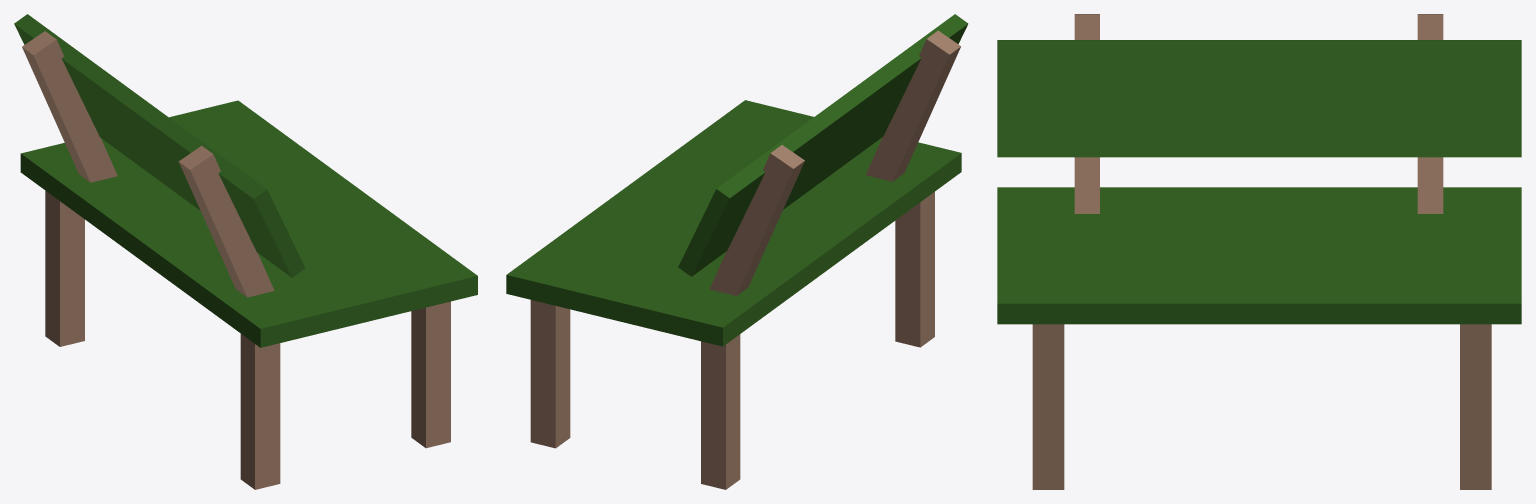
File: bench.fbx
3 renders of one model, left to right at view 1: azimuth 30°, elevation 25°; view 2: azimuth 150°, elevation 25°; view 3: azimuth 270°, elevation 25°, orthographic. The views are drawn at different scales.
Parts seen in each view (by area): view 1: Cube.007, Cube.005; view 2: Cube.007, Cube.005; view 3: Cube.007, Cube.005.
Part boxes in pixels (<box>): Cube.007: <box>14,14,477,347</box>; Cube.005: <box>22,31,450,489</box>; Cube.007: <box>506,14,968,346</box>; Cube.005: <box>530,30,960,489</box>; Cube.007: <box>997,40,1521,324</box>; Cube.005: <box>1032,14,1491,489</box>.
Size of the model in its own units: 205 by 254 by 338.
